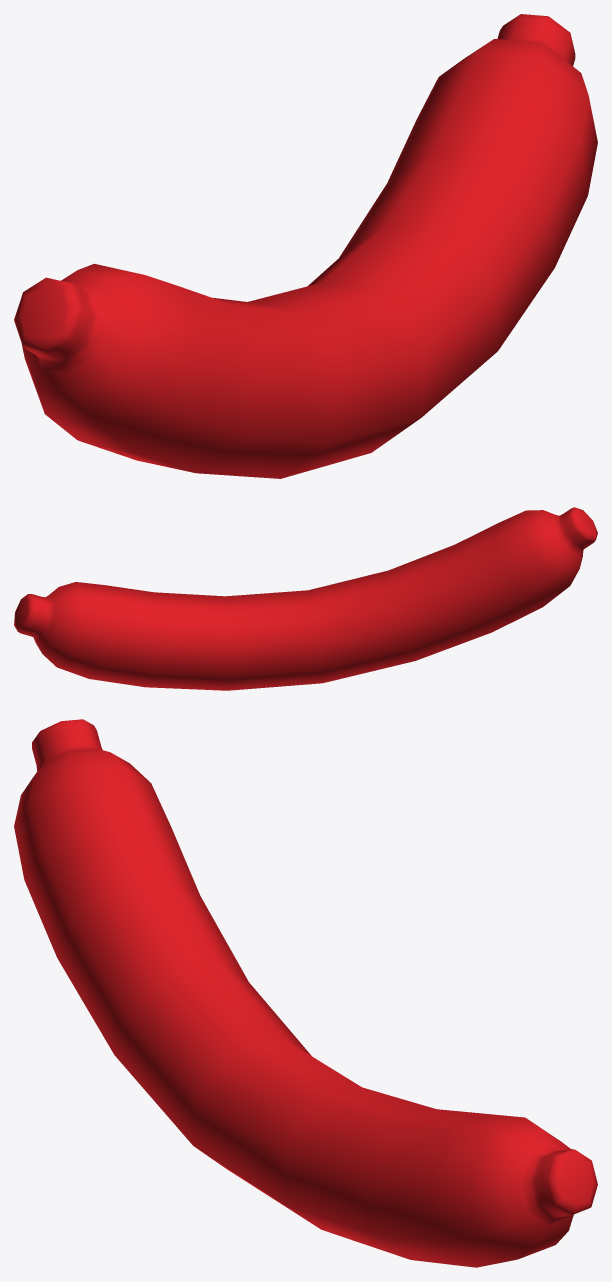
File: Sausage_Cockpit.fbx
The picture shows the model from 3 angles, top to bottom: view 1: azimuth 30°, elevation 25°; view 2: azimuth 150°, elevation 25°; view 3: azimuth 270°, elevation 25°; orthographic projection. The views are drawn at different scales.
Parts seen in each view (by area): view 1: Sausage.001; view 2: Sausage.001; view 3: Sausage.001.
Boxes of the visible parts, x1,y1,x2,y2 form: Sausage.001: [14, 14, 597, 478]; Sausage.001: [14, 507, 597, 690]; Sausage.001: [14, 719, 597, 1267].
Size of the model in its own units: 56.43 by 22.17 by 40.32.
